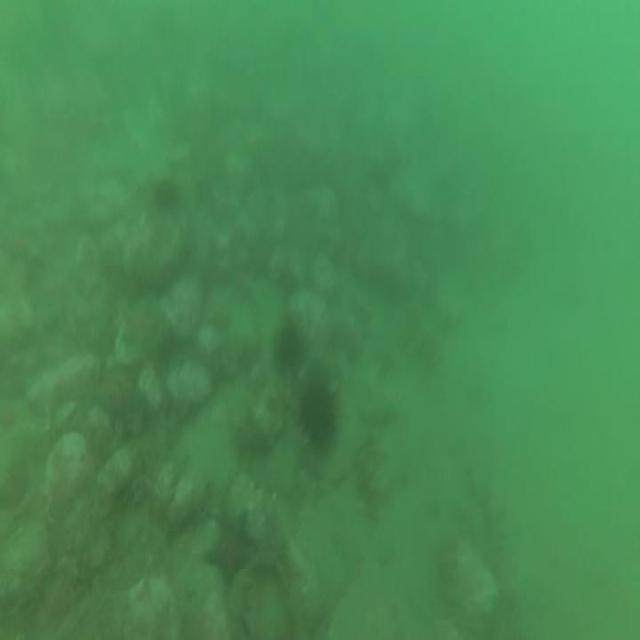echinus: (297, 376, 342, 457), (268, 314, 308, 381), (151, 172, 181, 218)
starfish: (205, 507, 255, 593), (97, 368, 146, 441), (115, 295, 163, 362)
